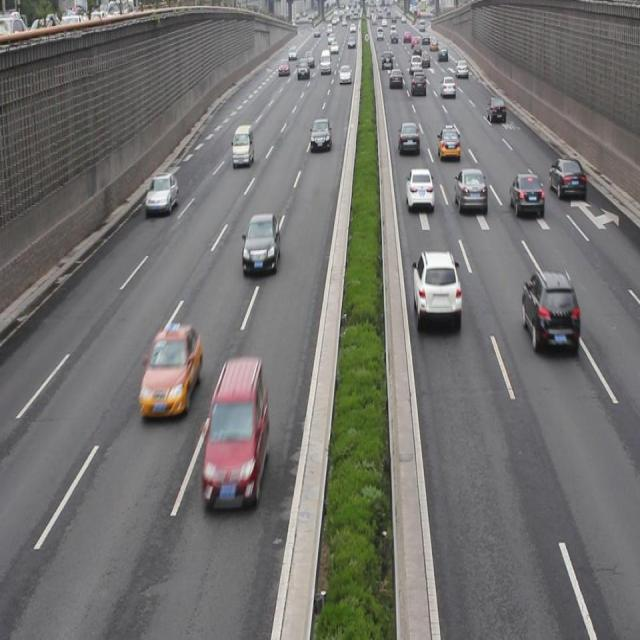car: (137, 322, 202, 418), (520, 270, 579, 354), (411, 250, 461, 326), (241, 212, 280, 274), (507, 171, 544, 220), (548, 154, 586, 200), (454, 166, 487, 212), (145, 171, 178, 213), (406, 166, 434, 211), (436, 125, 460, 158), (398, 119, 420, 154), (308, 117, 330, 152), (486, 95, 507, 126)
truck: (203, 357, 268, 508), (231, 122, 255, 166)
